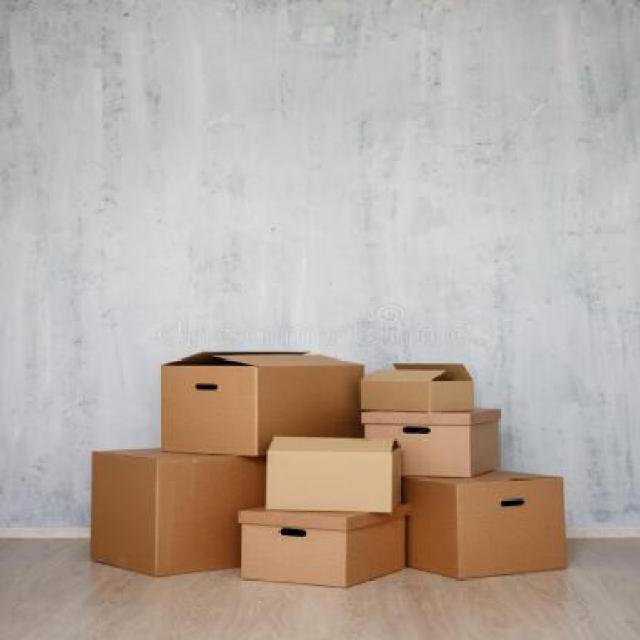box: (93, 444, 268, 578), (156, 350, 364, 460), (397, 463, 570, 577), (242, 500, 408, 585), (264, 432, 406, 514), (360, 409, 502, 479), (364, 356, 486, 414)
